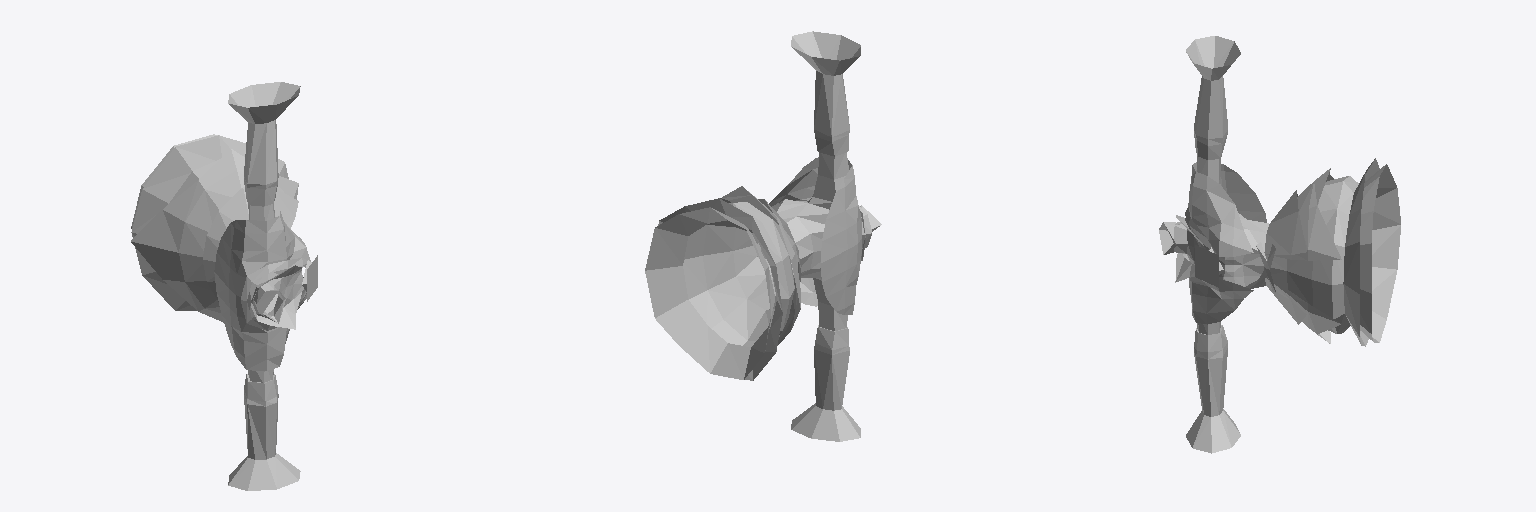
The model's file is 오리지널 상의.obj.
The picture shows the model from 3 angles: view 1: azimuth 30°, elevation 25°; view 2: azimuth 150°, elevation 25°; view 3: azimuth 270°, elevation 25°; orthographic projection.
Visible parts, largest first — view 1: vr_topbody_003; view 2: vr_topbody_003; view 3: vr_topbody_003.
Boxes of the visible parts, <box> form: vr_topbody_003: <box>131,82,317,490</box>; vr_topbody_003: <box>645,31,881,441</box>; vr_topbody_003: <box>1159,36,1400,453</box>.
Size of the model in its own units: 50.02 by 116 by 66.41.